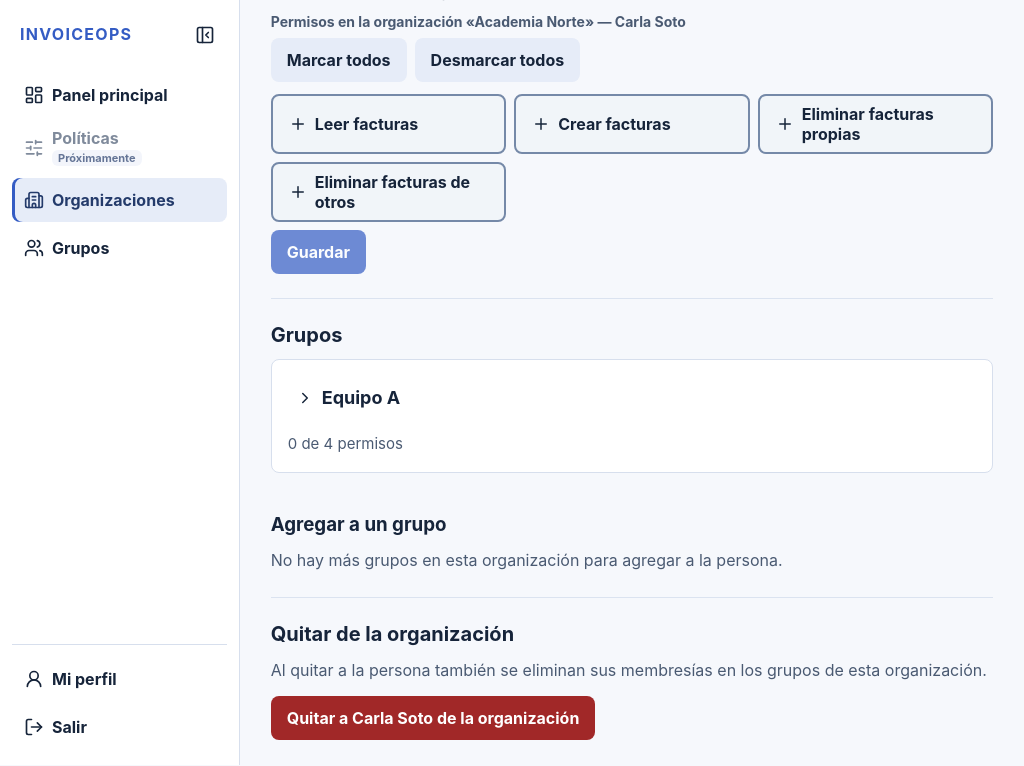
organization members (AC-11) › goes back to the members list with a status message after removing someone else
(page scrolled)
Click the button "Quitar a Carla Soto de la organización" at (433, 718), box [271, 696, 595, 740]
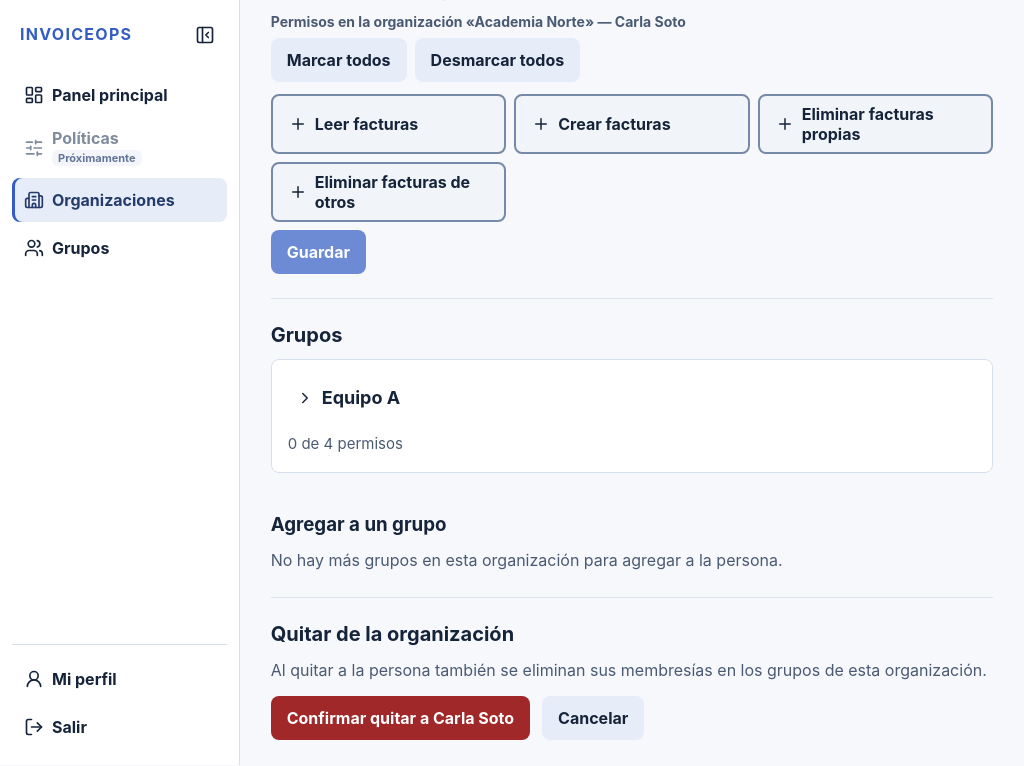
Click the button "Confirmar quitar a Carla Soto" at (400, 718), box [271, 696, 530, 740]
(page scrolled)
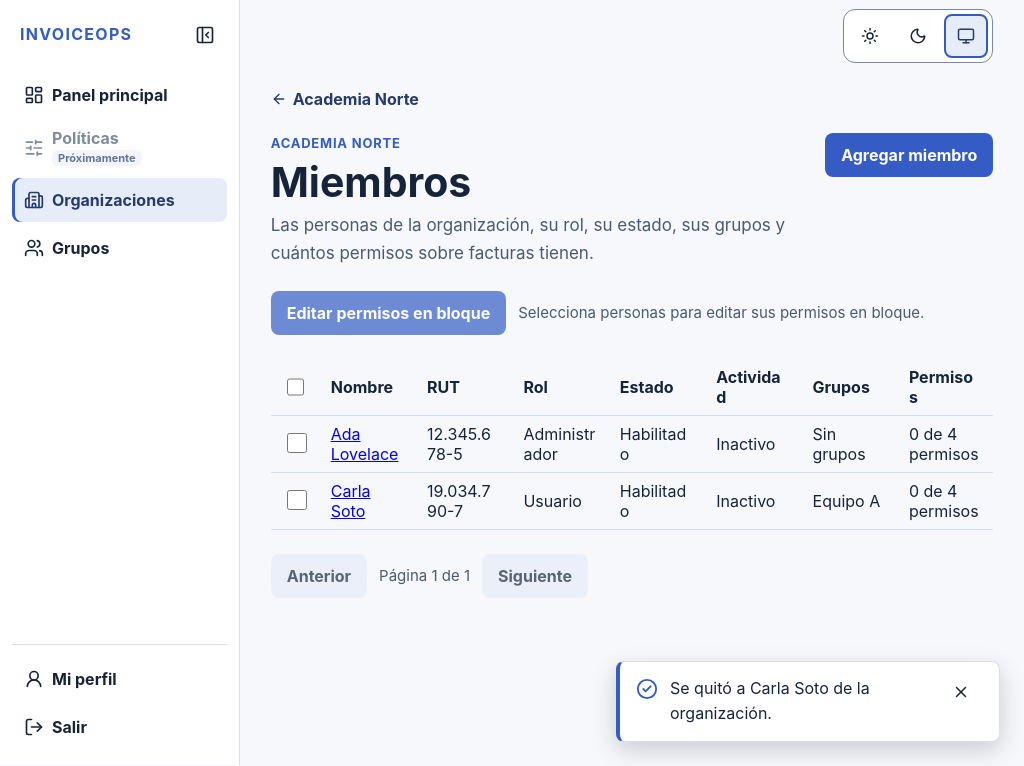
Expected: the text "Se quitó a Carla Soto de la organización." below "Página" is shown, [670, 678, 870, 723]
